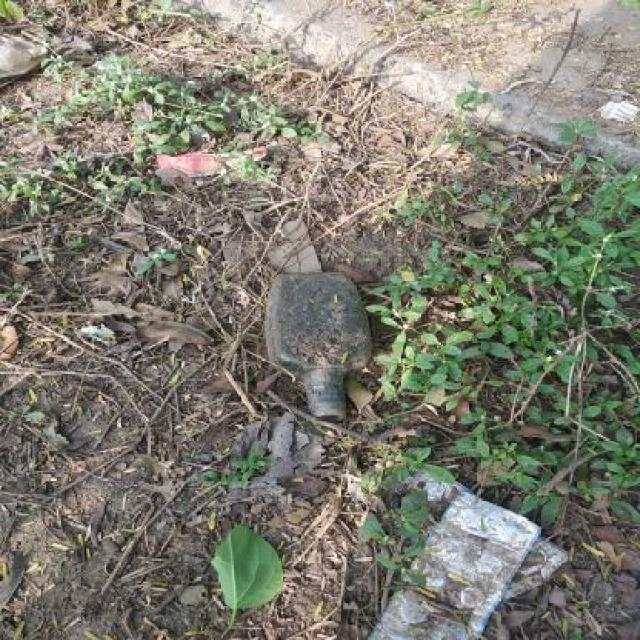garbage: (225, 259, 426, 462), (406, 480, 540, 639), (136, 141, 322, 186), (0, 26, 73, 92), (574, 75, 640, 146)
